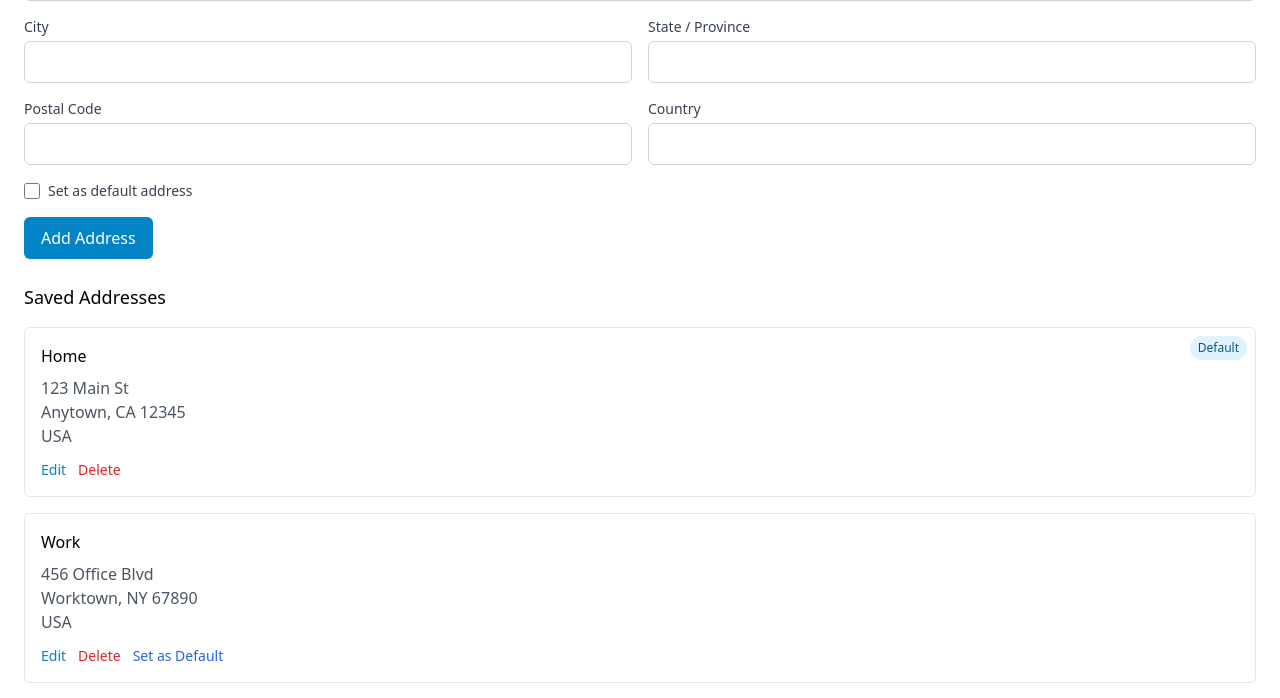
Test: AddressManager Component › handles deleting an address
The image size is (1280, 698).
(page scrolled)
// Click delete button for the second address
Click the button "Delete" below "Worktown" at (99, 656), box x1=78 y1=646 x2=121 y2=666
(page scrolled)
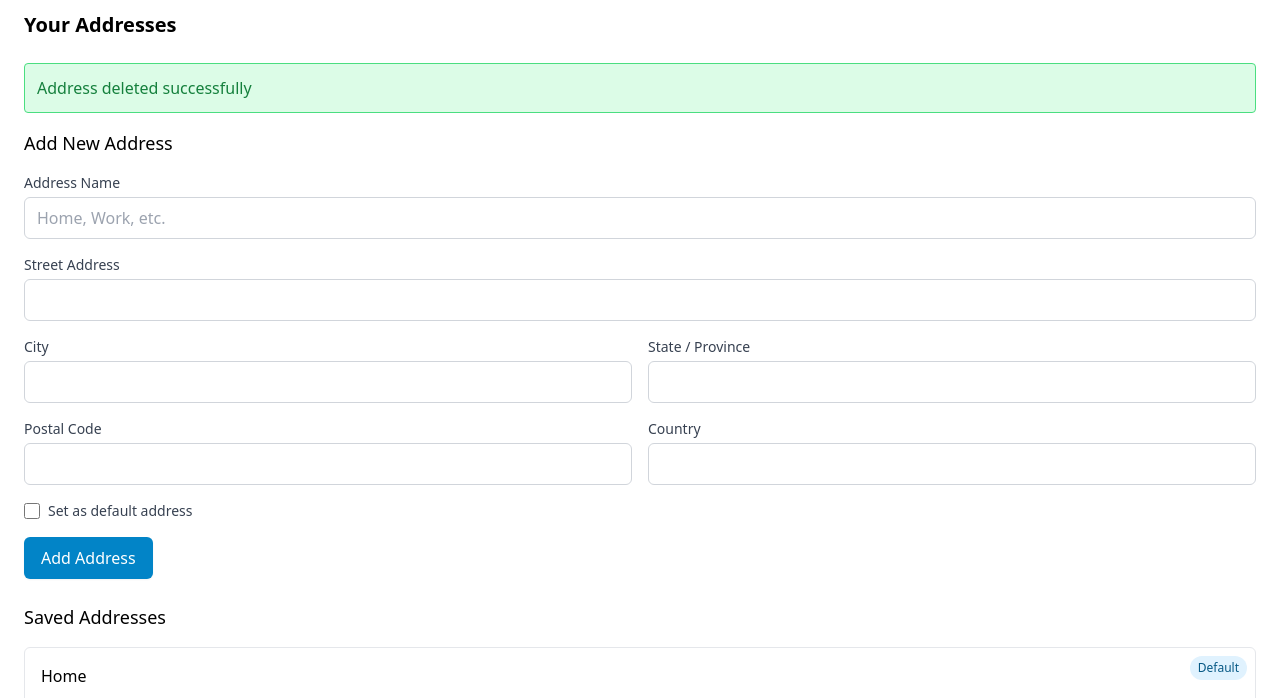
Expected: the text "Address deleted successfully" is shown, x1=24 y1=63 x2=1256 y2=113
